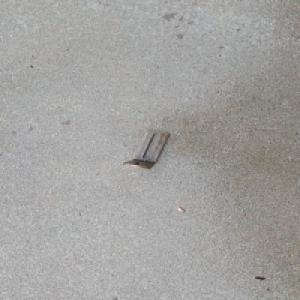MetalPart: (121, 129, 170, 169)
